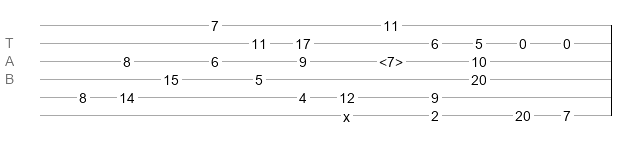0: (519, 36, 527, 46), (563, 36, 571, 46)
10: (471, 54, 487, 64)
11: (251, 36, 267, 46), (383, 18, 399, 28)
12: (339, 90, 355, 100)
14: (119, 90, 135, 100)
15: (163, 72, 179, 82)
17: (295, 36, 311, 46)
2: (431, 108, 439, 118)
20: (471, 72, 487, 82), (515, 108, 531, 118)
4: (299, 90, 307, 100)
5: (255, 72, 263, 82), (475, 36, 483, 46)
6: (211, 54, 219, 64), (431, 36, 439, 46)
7: (211, 18, 219, 28), (563, 108, 571, 118)
8: (79, 90, 87, 100), (123, 54, 131, 64)
9: (299, 54, 307, 64), (431, 90, 439, 100)
harmonic: (379, 54, 403, 64)
x: (343, 109, 350, 117)
